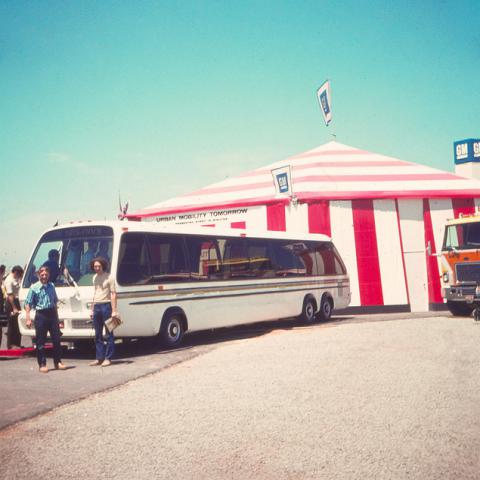bus: (17, 220, 351, 357)
truck: (426, 213, 480, 317)
